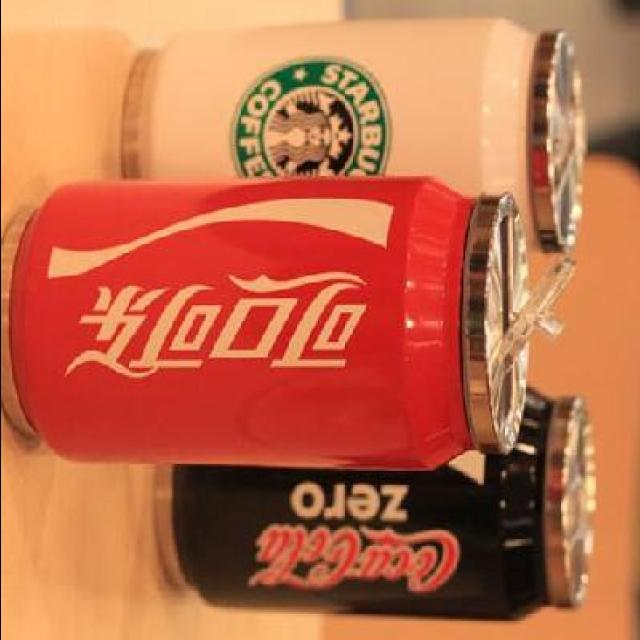-Recyclables - can-: (16, 170, 525, 467), (122, 19, 578, 177), (160, 469, 600, 620)
